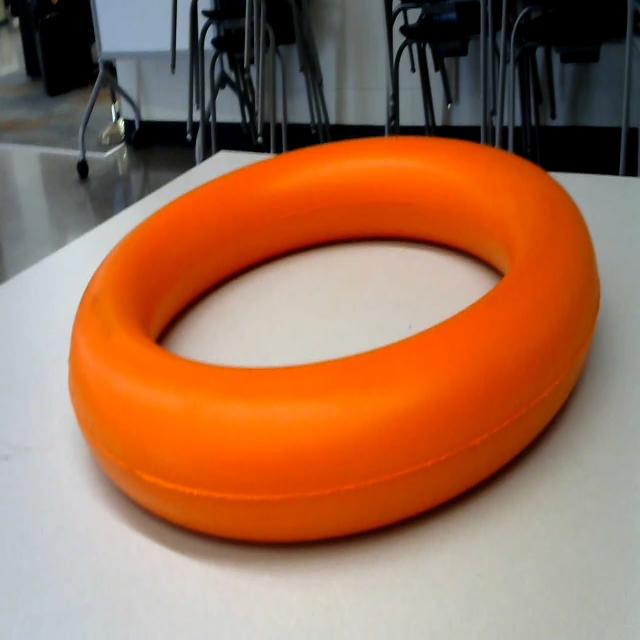note: (52, 123, 607, 571)
